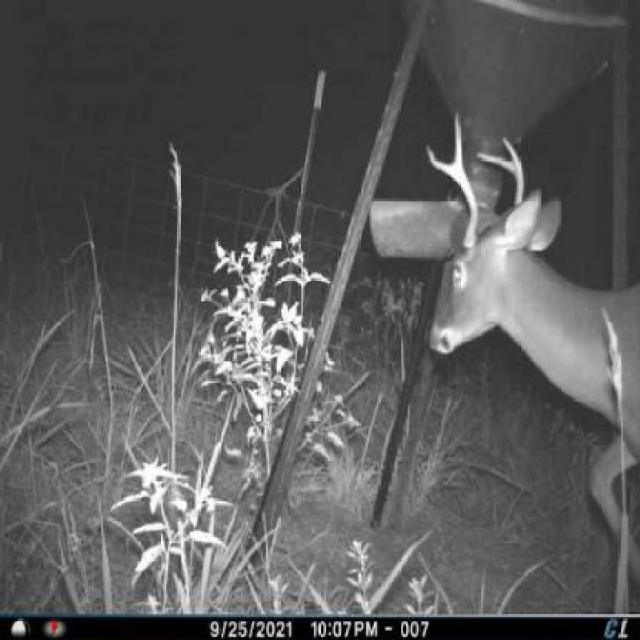Deer: (424, 107, 638, 596)
